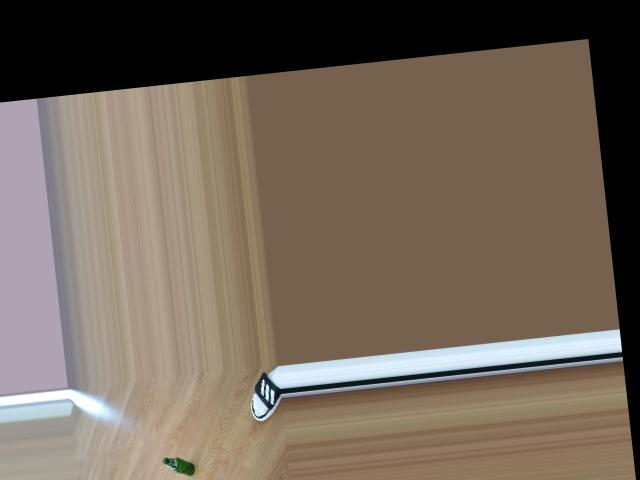beer: (163, 454, 195, 477)
